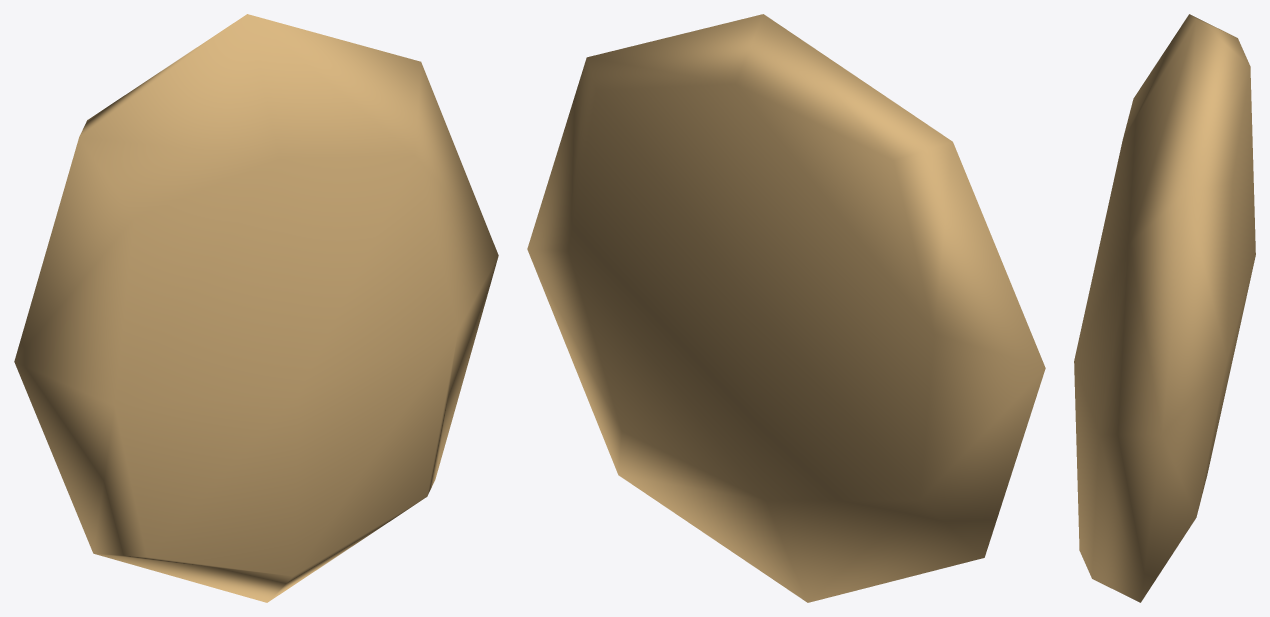
Rendered from claw_T3_left_lower.obj.
The picture shows the model from 3 angles, left to right: view 1: azimuth 30°, elevation 25°; view 2: azimuth 150°, elevation 25°; view 3: azimuth 270°, elevation 25°; orthographic projection. The views are drawn at different scales.
Bounding box in the file's own units: 0.0032 × 0.00358 × 0.00101.
